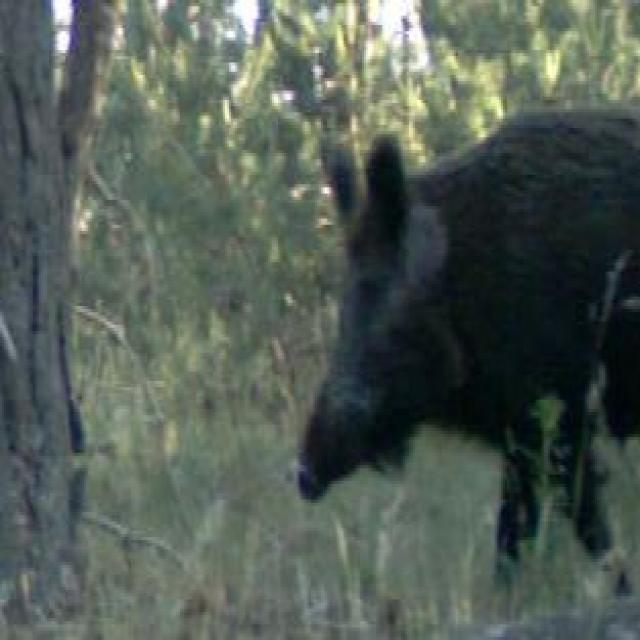pig: (292, 99, 640, 567)
